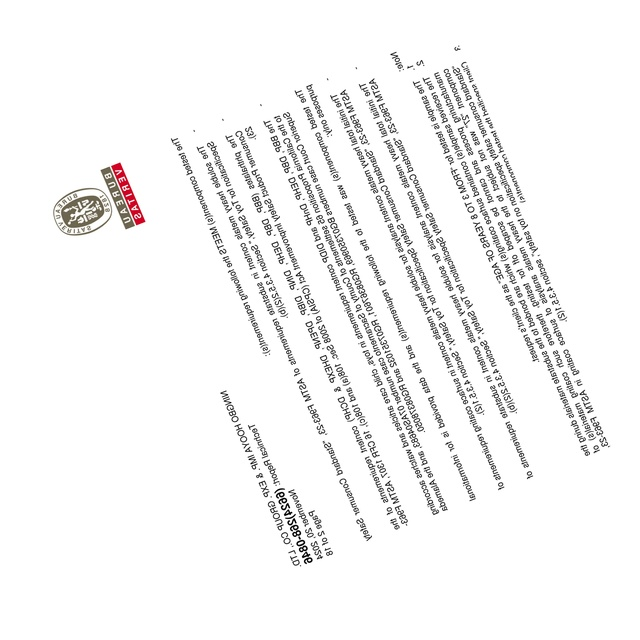bureau_veritas: (48, 159, 148, 247)
